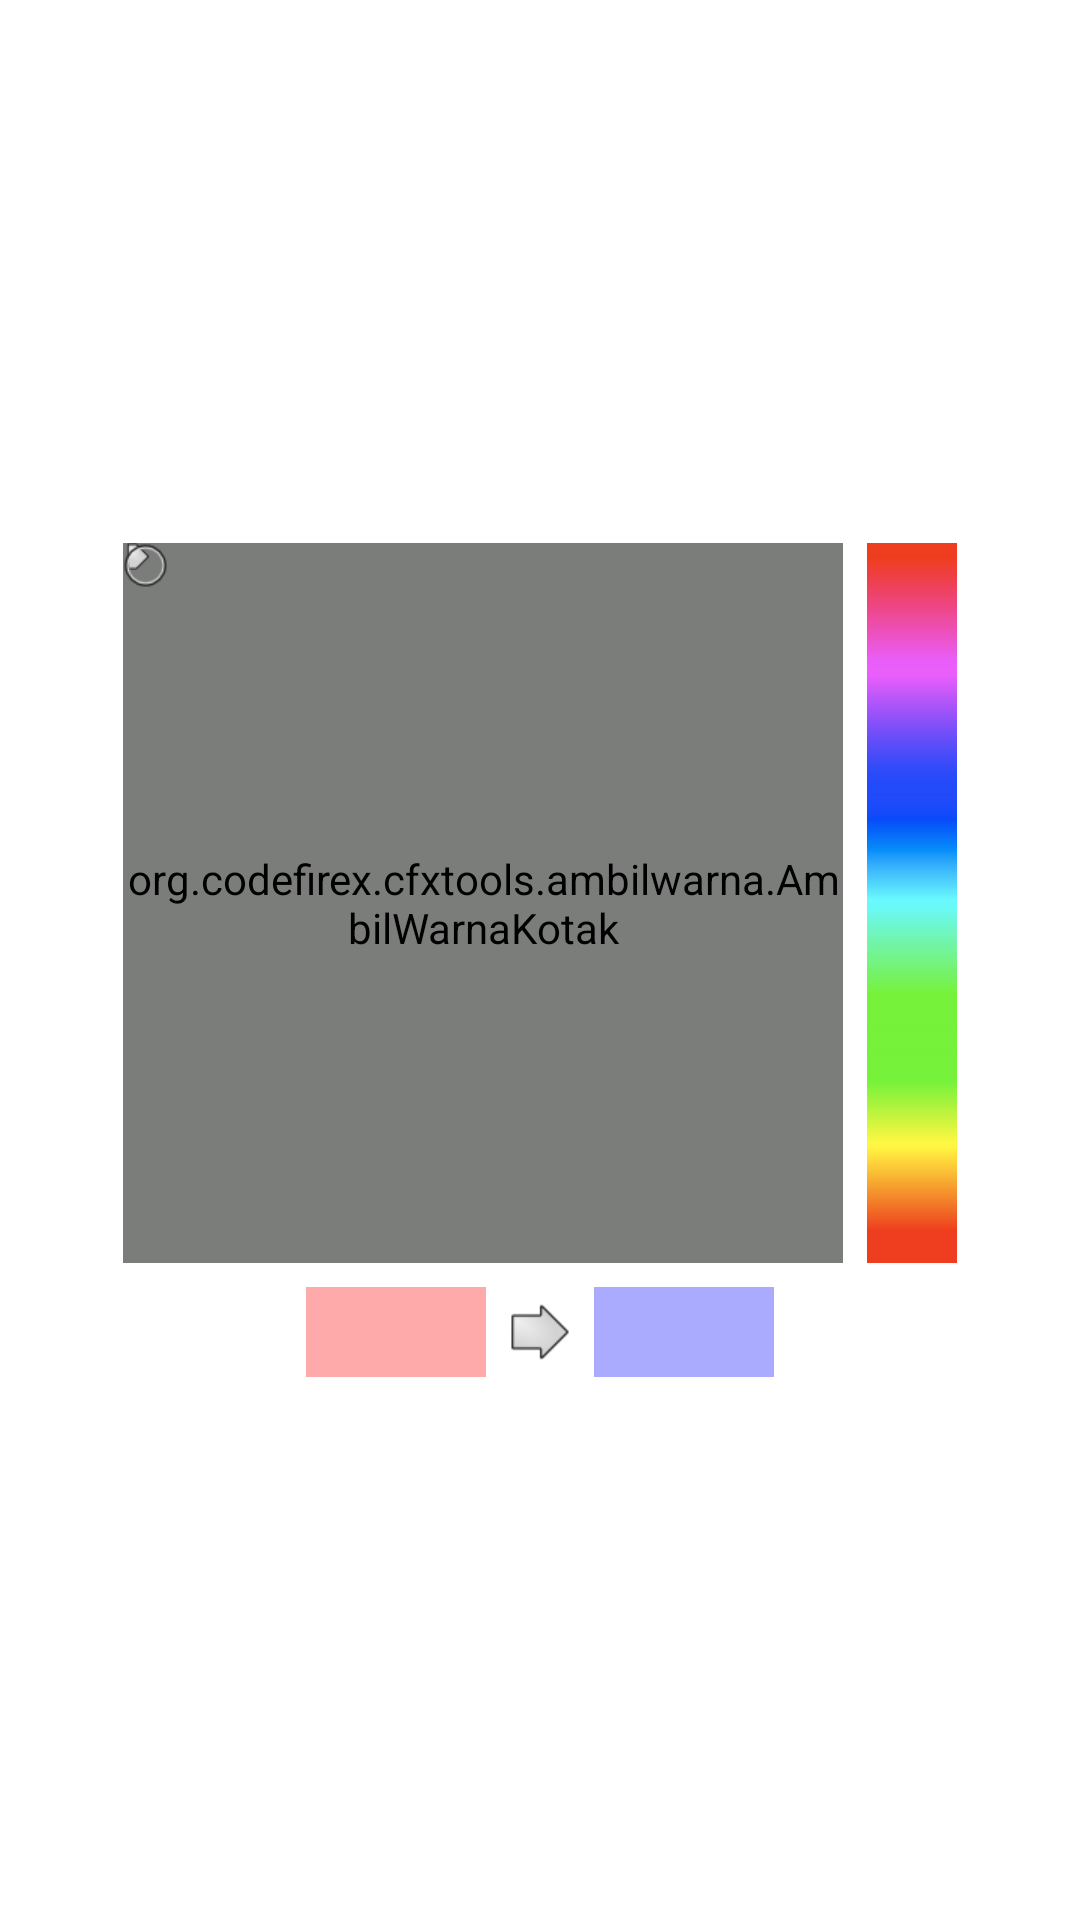

Icon bounding boxes for this 1080 x 1920 phone screenshot, format (x1, y1, x2, y2):
ambilwarna arrow right: (511, 1305, 569, 1360)
